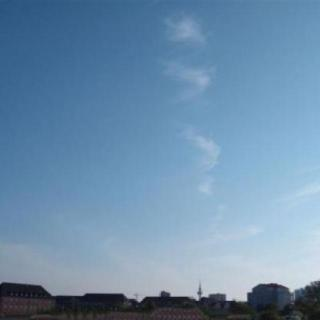Cirrus: (153, 0, 320, 263)
